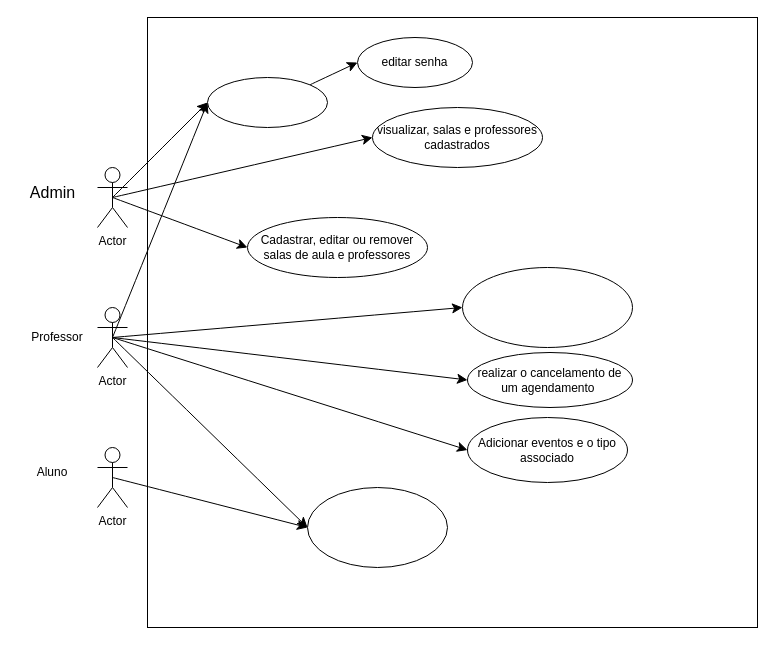
Image size: 775x645. Some labels were removed from this diagram. The shapes that lost their labels are listed below. From the top down, each one's centre as x and y in pixels, then its label:
At pixel 267 102: "Fazer Login na Plataforma".
At pixel 547 307: "realizar um agendamento em uma sala com um evento seu".
At pixel 377 527: "Visualizar agendamentos de salas mediante filtros".
